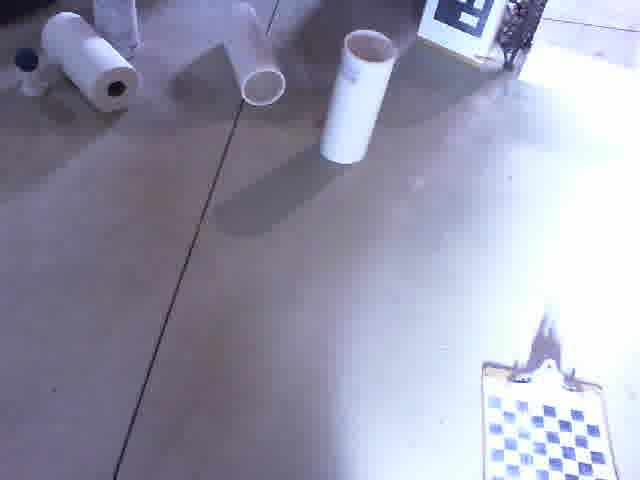coral: (319, 29, 398, 165), (39, 11, 139, 111), (214, 0, 287, 102)
